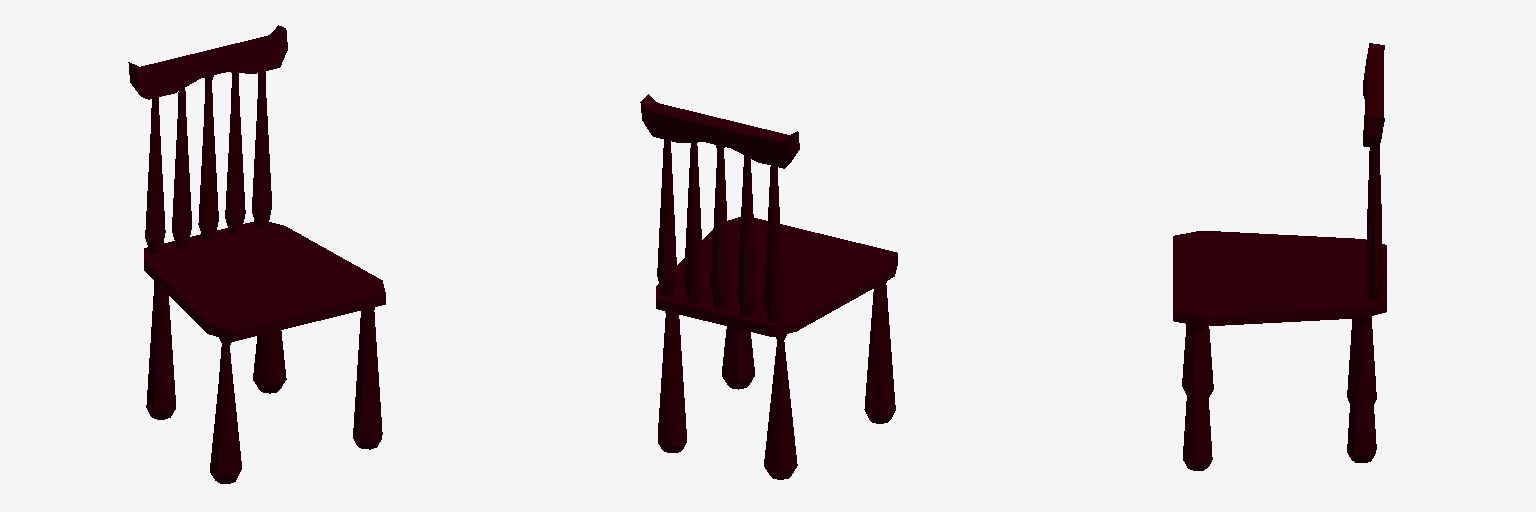
Rendered from TextureChair.obj.
3 renders of one model, left to right at view 1: azimuth 30°, elevation 25°; view 2: azimuth 150°, elevation 25°; view 3: azimuth 270°, elevation 25°, orthographic.
Visible parts, largest first — view 1: ChairTop1; view 2: ChairTop1; view 3: ChairTop1.
Part boxes in pixels (left/top/right/bottom): ChairTop1: left=128, top=25, right=385, bottom=483; ChairTop1: left=640, top=94, right=897, bottom=479; ChairTop1: left=1173, top=43, right=1386, bottom=470.
Size of the model in its own units: 4.93 by 9.48 by 5.22.